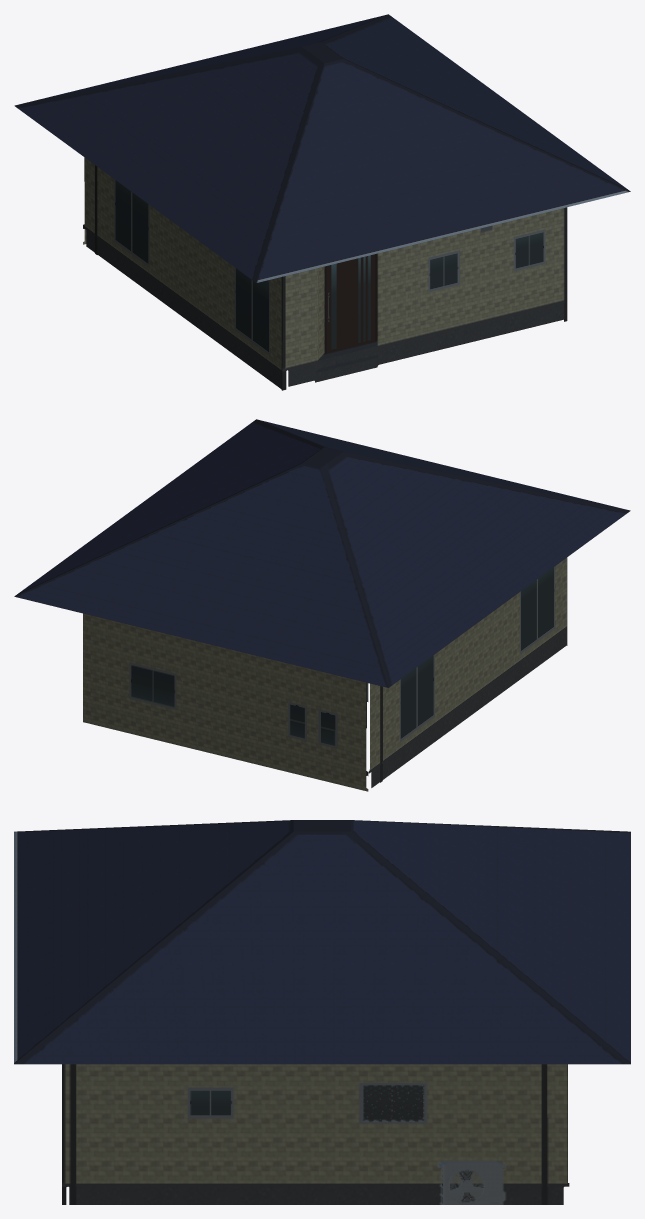
The model's file is House_12_low.fbx.
The picture shows the model from 3 angles, top to bottom: view 1: azimuth 30°, elevation 25°; view 2: azimuth 150°, elevation 25°; view 3: azimuth 270°, elevation 25°; orthographic projection. The views are drawn at different scales.
Visible parts, largest first — view 1: pCube3; view 2: pCube3; view 3: pCube3.
Boxes of the visible parts, <box> form: pCube3: <box>14,14,630,390</box>; pCube3: <box>14,419,630,791</box>; pCube3: <box>14,820,630,1204</box>.
Size of the model in its own units: 756 by 440 by 847.
Materials: 5 (5 with a texture image).
